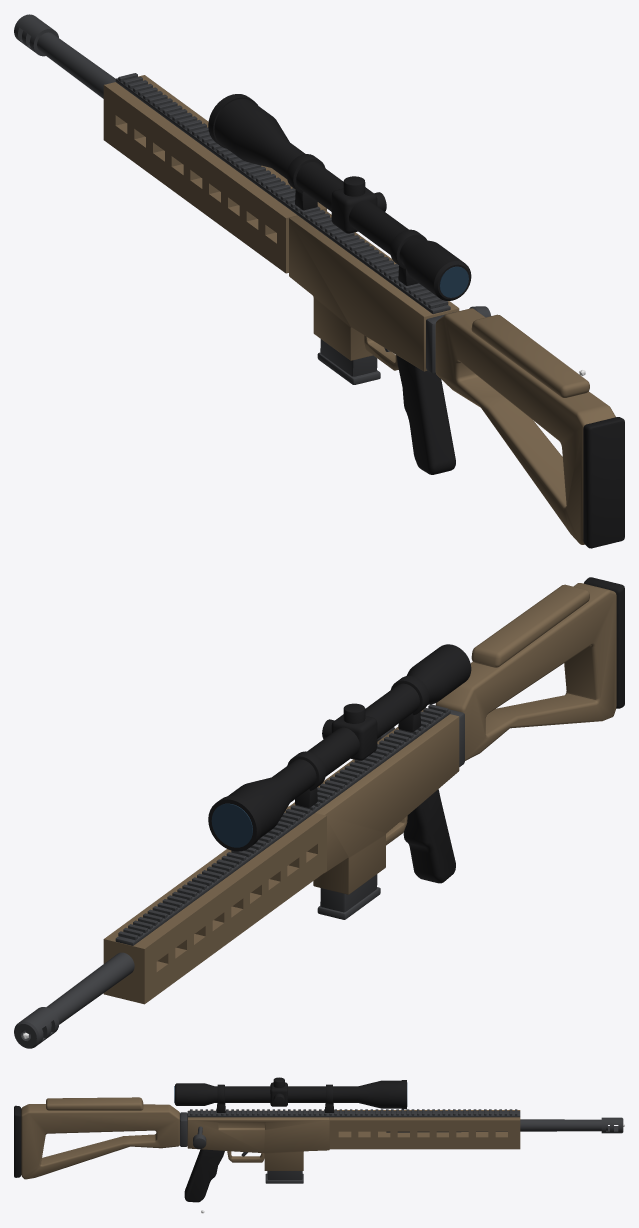
The model's file is MSR.glb.
The picture shows the model from 3 angles, top to bottom: view 1: azimuth 30°, elevation 25°; view 2: azimuth 150°, elevation 25°; view 3: azimuth 270°, elevation 25°; orthographic projection. The views are drawn at different scales.
Parts seen in each view (by area): view 1: Chassis, Stock, Scope, Rail, ButtPad, Grip, Barrel, Magazine, ScopeLens; view 2: Chassis, Stock, Scope, Rail, Barrel, Grip, Magazine, ScopeLens, ButtPad; view 3: Chassis, Stock, Scope, Rail, Barrel, Grip, ButtPad, Magazine, StockHinge, Bolt.
Boxes of the visible parts, left/top/right/bottom form: Chassis: left=103, top=75, right=459, bottom=371; Stock: left=435, top=308, right=615, bottom=544; Scope: left=208, top=94, right=471, bottom=300; Rail: left=115, top=73, right=450, bottom=313; ButtPad: left=583, top=417, right=624, bottom=548; Grip: left=396, top=355, right=455, bottom=474; Barrel: left=14, top=14, right=115, bottom=98; Magazine: left=317, top=339, right=380, bottom=384; ScopeLens: left=439, top=266, right=468, bottom=297; Chassis: left=103, top=708, right=459, bottom=1004; Stock: left=435, top=583, right=616, bottom=760; Scope: left=208, top=644, right=471, bottom=851; Rail: left=115, top=704, right=450, bottom=945; Barrel: left=14, top=952, right=134, bottom=1048; Grip: left=403, top=789, right=455, bottom=883; Magazine: left=317, top=874, right=380, bottom=919; ScopeLens: left=211, top=803, right=252, bottom=847; ButtPad: left=584, top=577, right=624, bottom=708; Chassis: left=187, top=1110, right=520, bottom=1170; Stock: left=21, top=1097, right=179, bottom=1179; Scope: left=175, top=1077, right=406, bottom=1112; Rail: left=187, top=1109, right=520, bottom=1117; Barrel: left=386, top=1117, right=623, bottom=1133; Grip: left=184, top=1149, right=224, bottom=1202; ButtPad: left=14, top=1105, right=21, bottom=1177; Magazine: left=265, top=1171, right=303, bottom=1183; StockHinge: left=180, top=1112, right=187, bottom=1146; Bolt: left=193, top=1126, right=206, bottom=1148.
Size of the model in its own units: 1.17 by 1.42 by 6.52.
